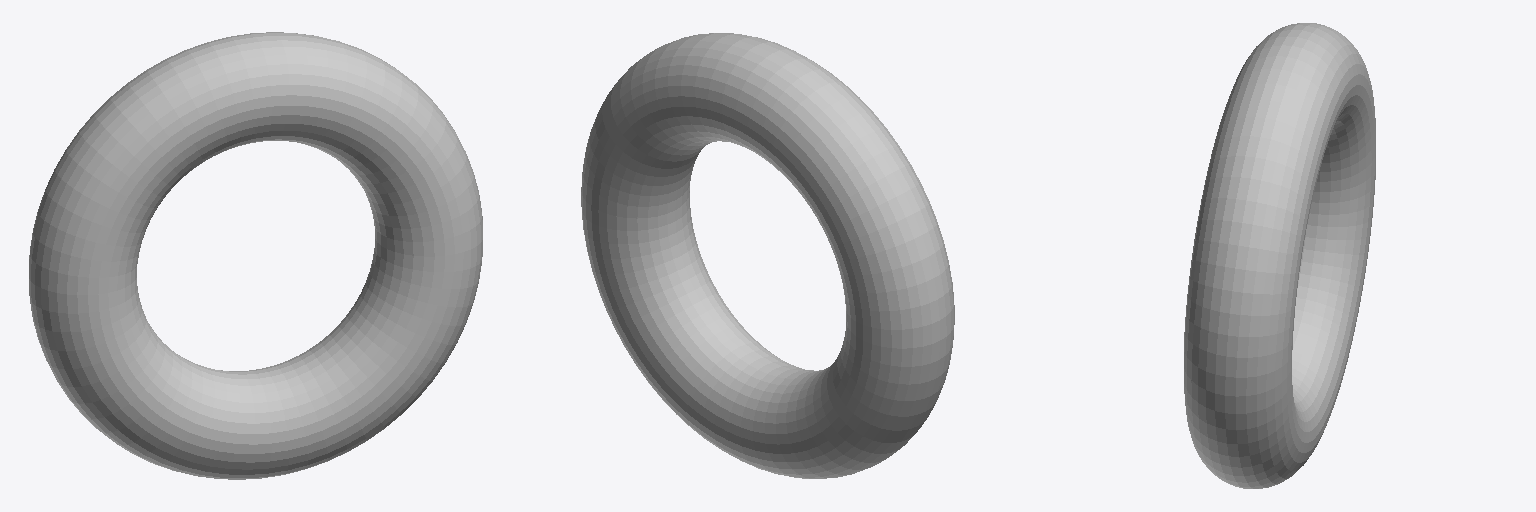
The model's file is tyre2.obj.
3 renders of one model, left to right at view 1: azimuth 30°, elevation 25°; view 2: azimuth 150°, elevation 25°; view 3: azimuth 270°, elevation 25°, orthographic.
Visible parts, largest first — view 1: Tyre_Base; view 2: Tyre_Base; view 3: Tyre_Base.
Boxes of the visible parts, x1=… form: Tyre_Base: x1=29, y1=32, x2=482, y2=479; Tyre_Base: x1=581, y1=33, x2=954, y2=478; Tyre_Base: x1=1184, y1=23, x2=1375, y2=488.
Size of the model in its own units: 7.36 by 7.5 by 3.08.